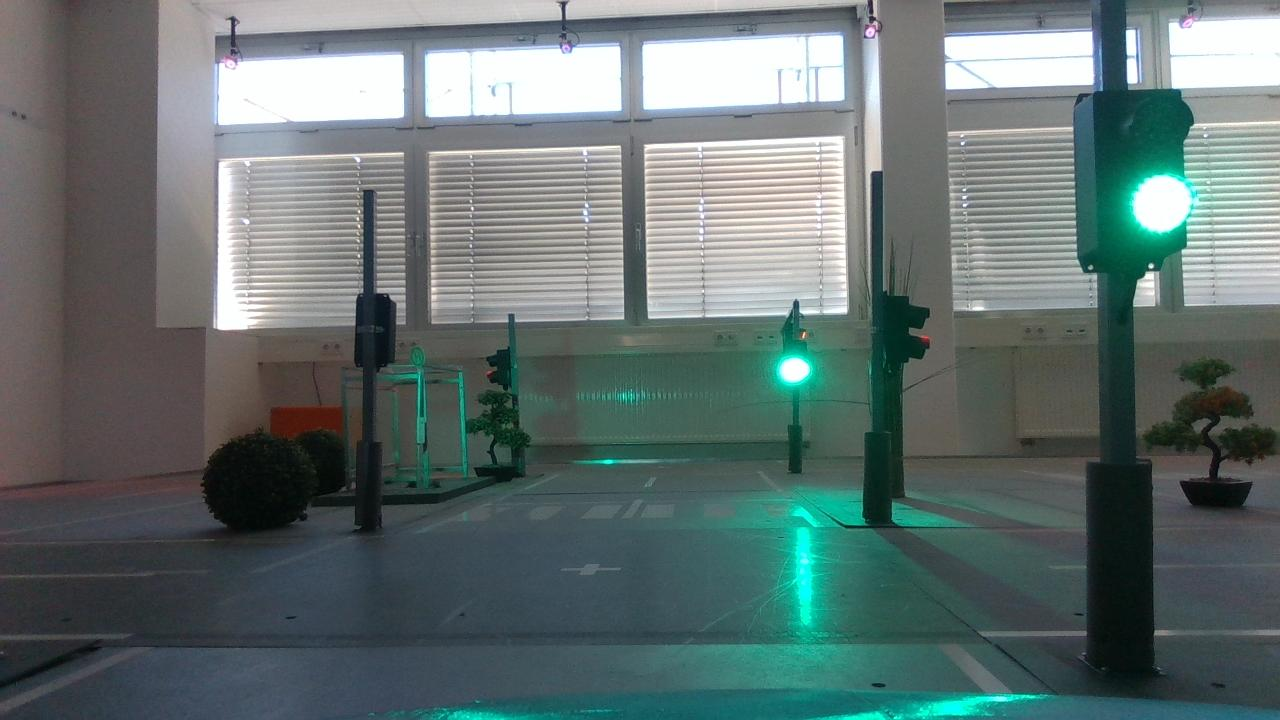traffic_light_green: (1054, 67, 1214, 295)
